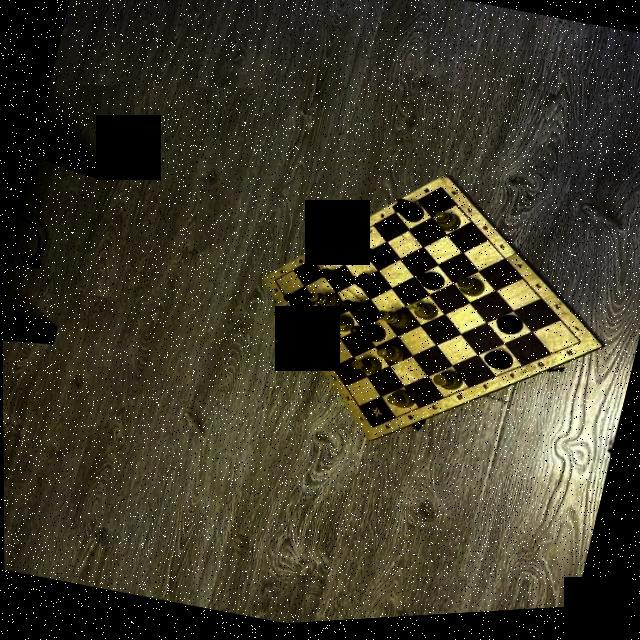chess-table-corners: (575, 344, 583, 352), (270, 280, 277, 285), (368, 428, 374, 432), (438, 189, 442, 194)
